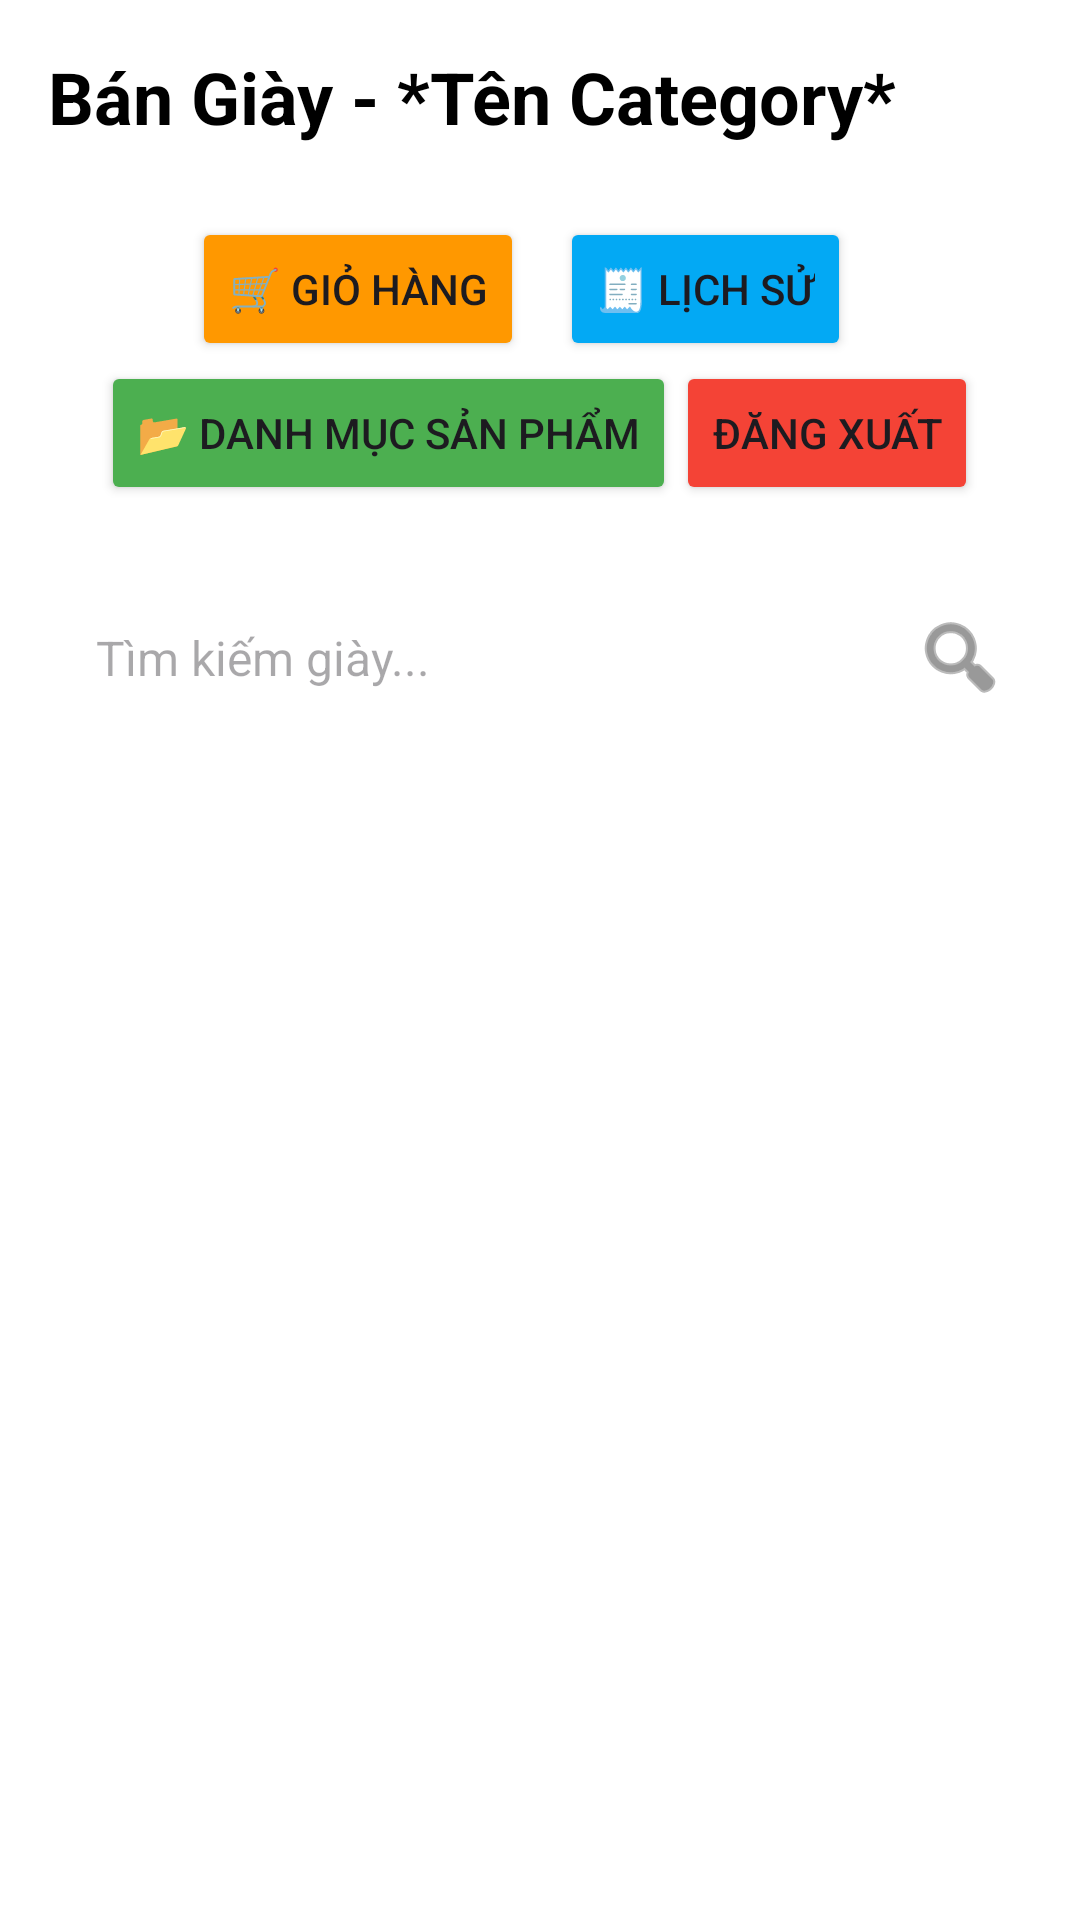

Icons on this 1080x1920 Android screen, each with the point to tap as point (x, y):
Search: point (960, 657)
